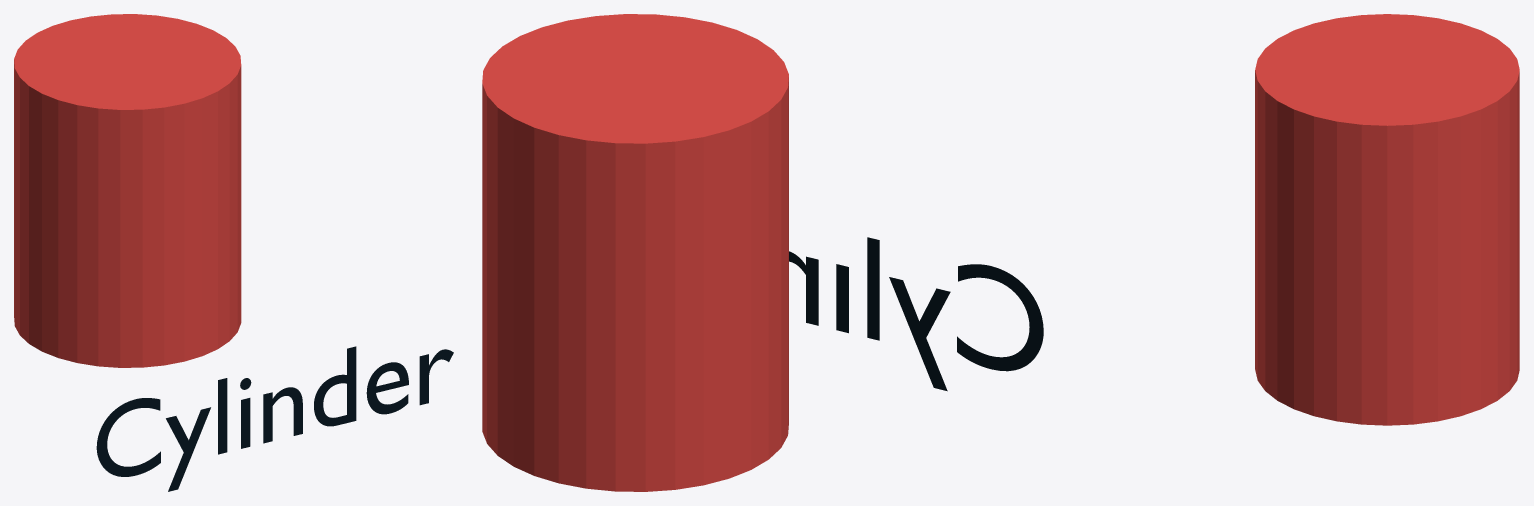
File: cylinder_static.gltf
The picture shows the model from 3 angles, left to right: view 1: azimuth 30°, elevation 25°; view 2: azimuth 150°, elevation 25°; view 3: azimuth 270°, elevation 25°; orthographic projection. The views are drawn at different scales.
Parts seen in each view (by area): view 1: Cylinder, Text.001; view 2: Cylinder, Text.001; view 3: Cylinder.
Part boxes in pixels (<box>): Cylinder: <box>14,14,241,367</box>; Text.001: <box>96,346,453,491</box>; Cylinder: <box>482,14,788,491</box>; Text.001: <box>789,237,1043,391</box>; Cylinder: <box>1255,14,1519,425</box>.
Size of the model in its own units: 0.3623 by 0.2979 by 0.3383.
